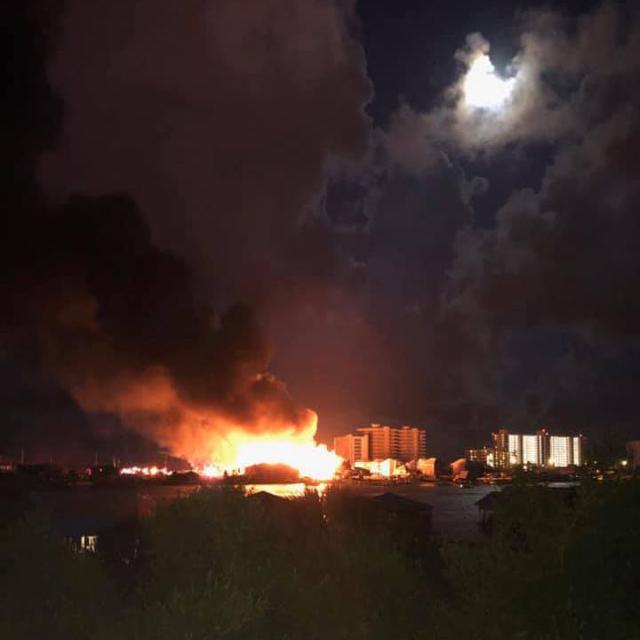Fire: (188, 424, 408, 482)
Smoke: (0, 159, 311, 418)
